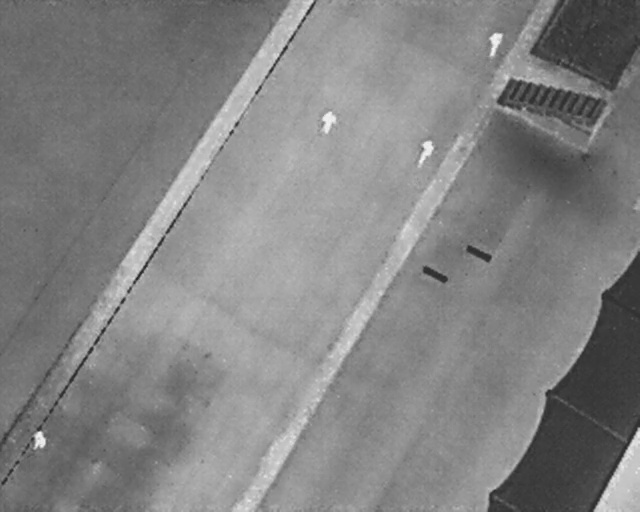Person: (411, 135, 439, 171), (483, 27, 505, 60), (317, 106, 340, 136), (33, 429, 47, 451)
